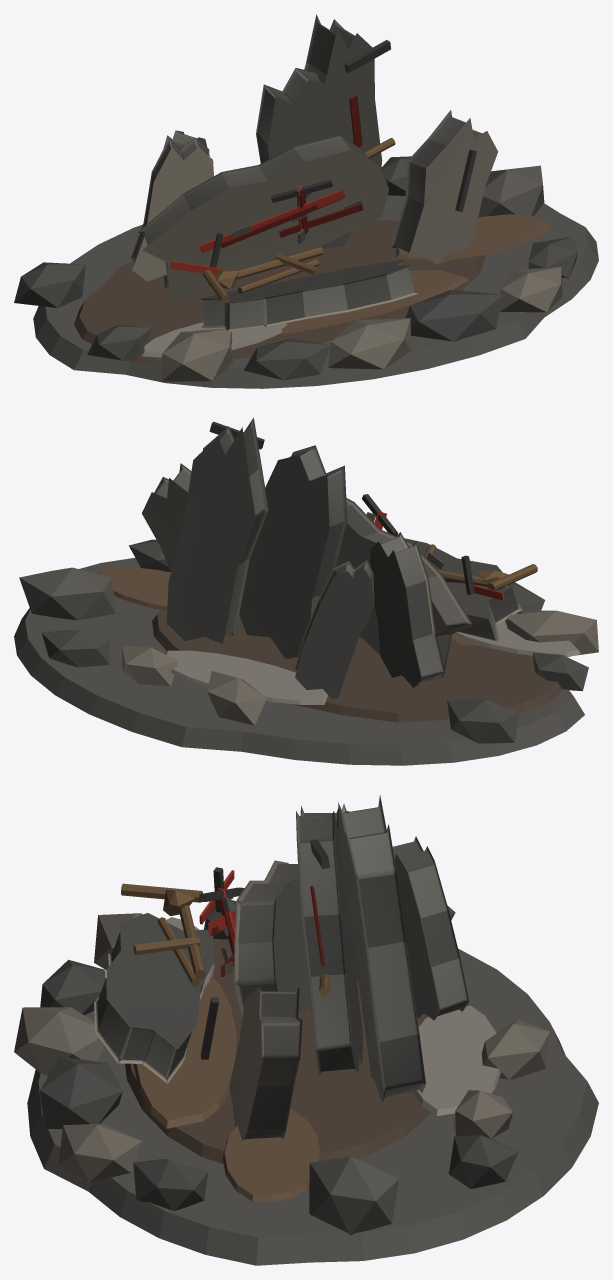
File: SM_GIA_BloodAxeCairnSlabCluster_A01_LOD0_PaintTarget.fbx
The picture shows the model from 3 angles, top to bottom: view 1: azimuth 30°, elevation 25°; view 2: azimuth 150°, elevation 25°; view 3: azimuth 270°, elevation 25°; orthographic projection. The views are drawn at different scales.
Visible parts, largest first — view 1: LOD0_Stone_DominantPaintedLeaningSlab, LOD0_AshMudBase_IrregularFootprint, LOD0_DarkMud_OffsetGrounding, LOD0_Stone_RightBrokenSupportPlate, LOD0_Stone_FrontLowBrokenFace, LOD0_Stone_SecondaryPaintedCenterShard, LOD0_Stone_RearTallBlackShard, LOD0_Stone_LeftKnifeShard, LOD0_SupportStone_05, LOD0_SupportStone_04, LOD0_SupportStone_02, LOD0_SupportStone_07 (+16 smaller); view 2: LOD0_AshMudBase_IrregularFootprint, LOD0_Stone_RearTallBlackShard, LOD0_Stone_SecondaryPaintedCenterShard, LOD0_DarkMud_OffsetGrounding, LOD0_Stone_LeftKnifeShard, LOD0_Stone_BackLeftNarrowShard, LOD0_Stone_DominantPaintedLeaningSlab, LOD0_PaintedPOC_Ground_AshSweepRear, LOD0_SupportStone_07, LOD0_Stone_FrontLowBrokenFace, LOD0_SupportStone_02, LOD0_Stone_RightBrokenSupportPlate (+10 smaller); view 3: LOD0_AshMudBase_IrregularFootprint, LOD0_Stone_RearTallBlackShard, LOD0_DarkMud_OffsetGrounding, LOD0_Stone_FrontLowBrokenFace, LOD0_Stone_SecondaryPaintedCenterShard, LOD0_Stone_RightBrokenSupportPlate, LOD0_Stone_DominantPaintedLeaningSlab, LOD0_Stone_BackLeftNarrowShard, LOD0_PaintedPOC_Ground_WetMudUnderMain, LOD0_PaintedPOC_Ground_AshSweepRear, LOD0_PaintedPOC_Ground_DarkMudRightPool, LOD0_SupportStone_07 (+12 smaller).
Boxes of the visible parts, left/top/right/bottom form: LOD0_Stone_DominantPaintedLeaningSlab: left=137, top=135, right=389, bottom=300; LOD0_AshMudBase_IrregularFootprint: left=33, top=195, right=598, bottom=388; LOD0_DarkMud_OffsetGrounding: left=74, top=219, right=485, bottom=363; LOD0_Stone_RightBrokenSupportPlate: left=390, top=110, right=498, bottom=264; LOD0_Stone_FrontLowBrokenFace: left=198, top=259, right=418, bottom=331; LOD0_Stone_SecondaryPaintedCenterShard: left=256, top=68, right=351, bottom=266; LOD0_Stone_RearTallBlackShard: left=304, top=14, right=382, bottom=169; LOD0_Stone_LeftKnifeShard: left=130, top=137, right=213, bottom=281; LOD0_SupportStone_05: left=405, top=289, right=503, bottom=341; LOD0_SupportStone_04: left=328, top=318, right=411, bottom=369; LOD0_SupportStone_02: left=160, top=328, right=233, bottom=381; LOD0_SupportStone_07: left=478, top=165, right=544, bottom=217; LOD0_AshMudBase_IrregularFootprint: left=14, top=558, right=584, bottom=765; LOD0_Stone_RearTallBlackShard: left=166, top=417, right=268, bottom=644; LOD0_Stone_SecondaryPaintedCenterShard: left=239, top=445, right=347, bottom=658; LOD0_DarkMud_OffsetGrounding: left=152, top=610, right=562, bottom=722; LOD0_Stone_LeftKnifeShard: left=370, top=532, right=445, bottom=687; LOD0_Stone_BackLeftNarrowShard: left=295, top=559, right=374, bottom=698; LOD0_Stone_DominantPaintedLeaningSlab: left=336, top=498, right=472, bottom=686; LOD0_PaintedPOC_Ground_AshSweepRear: left=164, top=650, right=327, bottom=704; LOD0_SupportStone_07: left=19, top=567, right=115, bottom=620; LOD0_Stone_FrontLowBrokenFace: left=404, top=538, right=522, bottom=641; LOD0_SupportStone_02: left=505, top=610, right=598, bottom=655; LOD0_Stone_RightBrokenSupportPlate: left=142, top=463, right=191, bottom=571; LOD0_AshMudBase_IrregularFootprint: left=27, top=948, right=598, bottom=1265; LOD0_Stone_RearTallBlackShard: left=338, top=795, right=425, bottom=1102; LOD0_DarkMud_OffsetGrounding: left=125, top=939, right=431, bottom=1163; LOD0_Stone_FrontLowBrokenFace: left=94, top=913, right=213, bottom=1083; LOD0_Stone_SecondaryPaintedCenterShard: left=296, top=806, right=363, bottom=1076; LOD0_Stone_RightBrokenSupportPlate: left=229, top=987, right=302, bottom=1140; LOD0_Stone_DominantPaintedLeaningSlab: left=234, top=860, right=310, bottom=1018; LOD0_Stone_BackLeftNarrowShard: left=392, top=836, right=469, bottom=1020; LOD0_PaintedPOC_Ground_WetMudUnderMain: left=133, top=976, right=238, bottom=1128; LOD0_PaintedPOC_Ground_AshSweepRear: left=412, top=1005, right=500, bottom=1116; LOD0_PaintedPOC_Ground_DarkMudRightPool: left=222, top=1109, right=322, bottom=1201; LOD0_SupportStone_07: left=309, top=1156, right=399, bottom=1235.
Bounding box in the file's own units: 24426 × 32957 × 14935.
